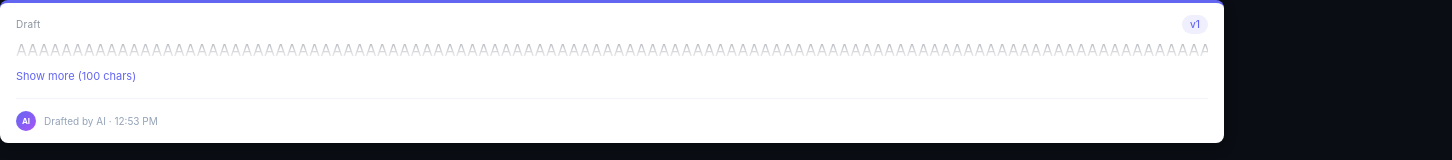
Test case: Draft Card › expands draft on click
What coordinates should you click on to do the following:
click the button "Show more (100 chars)"
I would click on:
 (76, 76)
Its box is x1=16 y1=68 x2=136 y2=84.
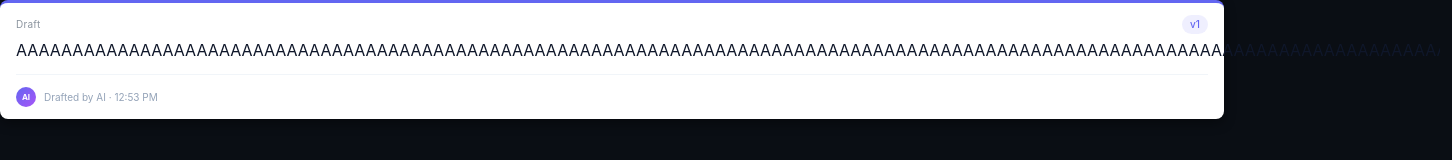
Now the button "Show more" is gone
